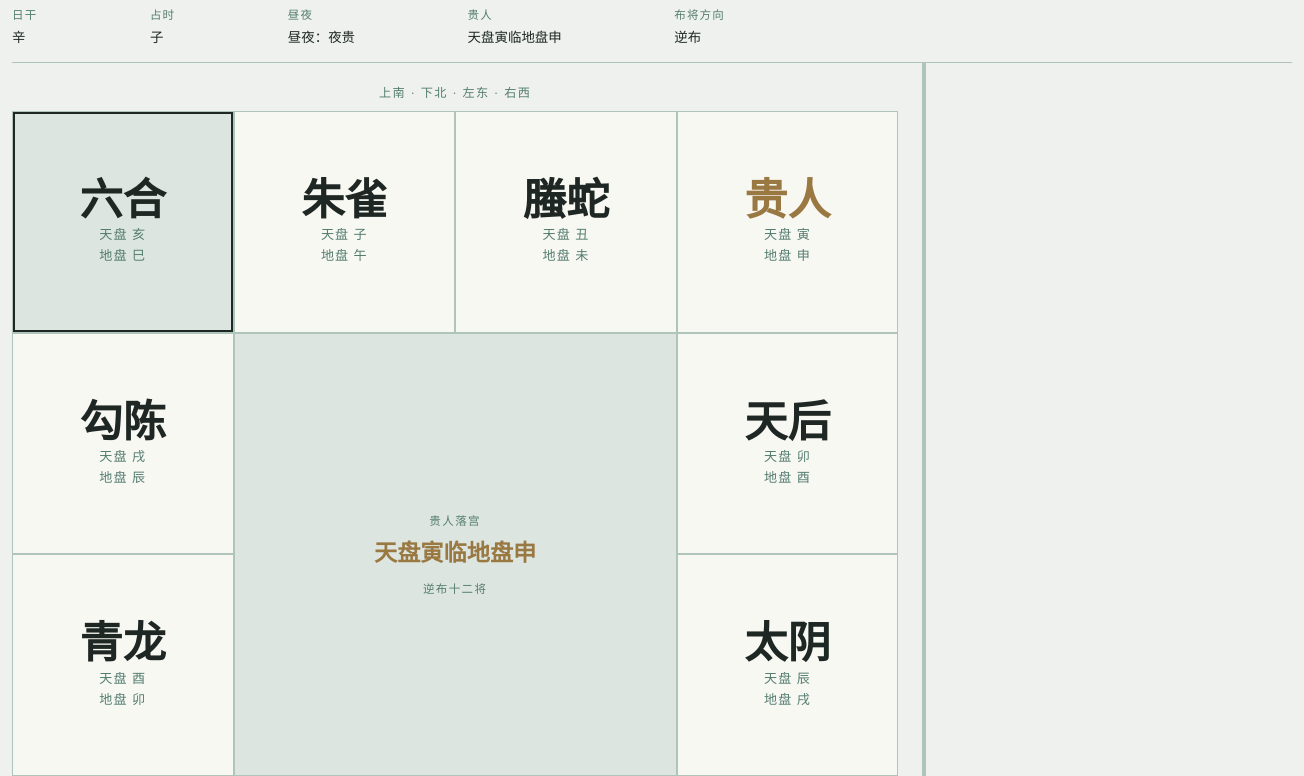
it: HeavenlyGeneralsReview › marks the noble palace and returns focus after evidence closes
This screenshot has width=1304, height=776.
Later steps or results of the test are not shown.
Click the button "贵人 天盘 寅 地盘 申" at coordinates (788, 222), box [677, 111, 898, 333]
(page scrolled)
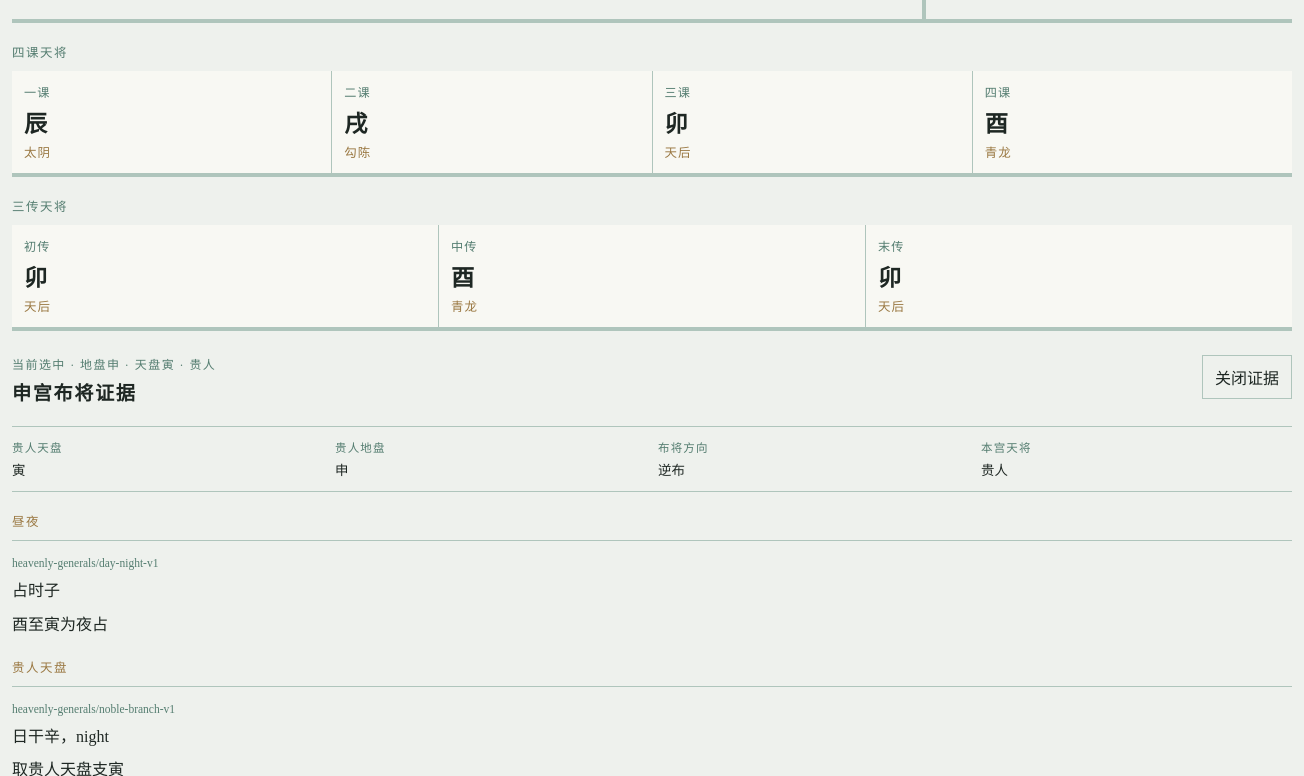
Expected: the heading "申宫布将证据" is shown, [12, 383, 136, 404]
